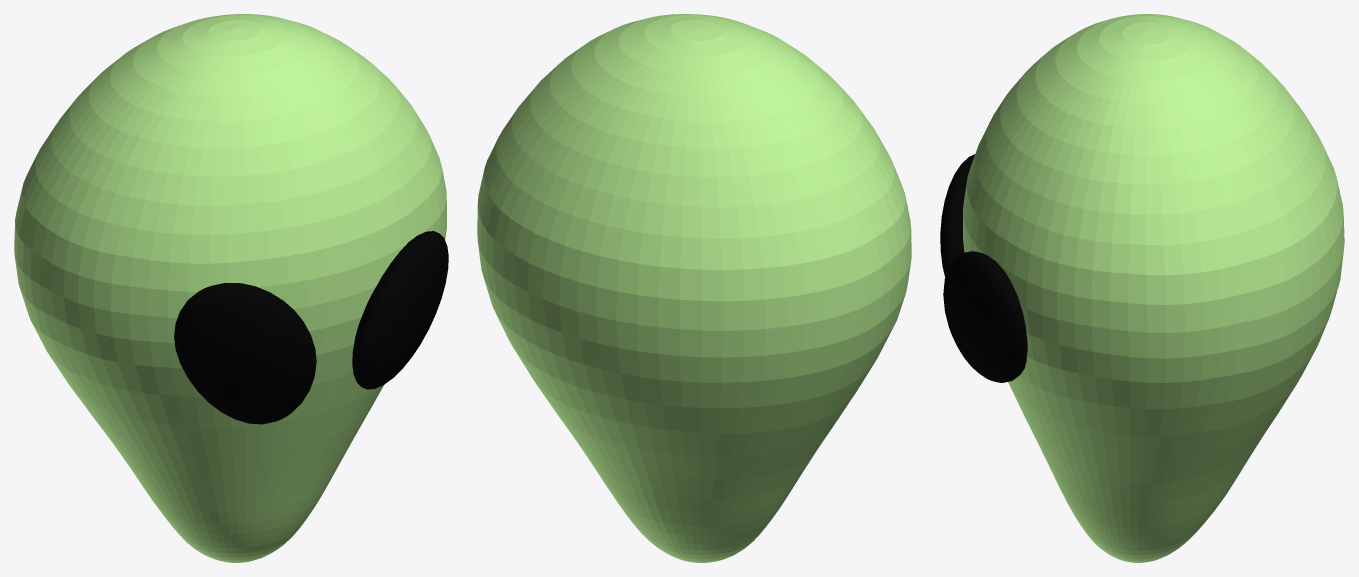
Rendered from alien.glb.
The picture shows the model from 3 angles, left to right: view 1: azimuth 30°, elevation 25°; view 2: azimuth 150°, elevation 25°; view 3: azimuth 270°, elevation 25°; orthographic projection.
Visible parts, largest first — view 1: AlienHead, LeftEye, RightEye; view 2: AlienHead; view 3: AlienHead, RightEye, LeftEye.
Boxes of the visible parts, x1,y1,x2,y2 form: AlienHead: (14,14,446,562); LeftEye: (174,283,316,424); RightEye: (352,231,448,389); AlienHead: (477,14,911,562); AlienHead: (963,14,1344,562); RightEye: (943,251,1027,382); LeftEye: (940,154,974,277).
Size of the model in its own units: 0.89 by 1.16 by 0.8091.
